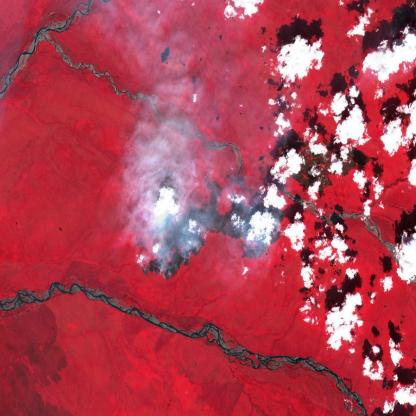fire: (137, 167, 287, 282)
